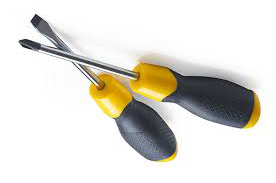Screwdriver: (16, 13, 269, 167)
